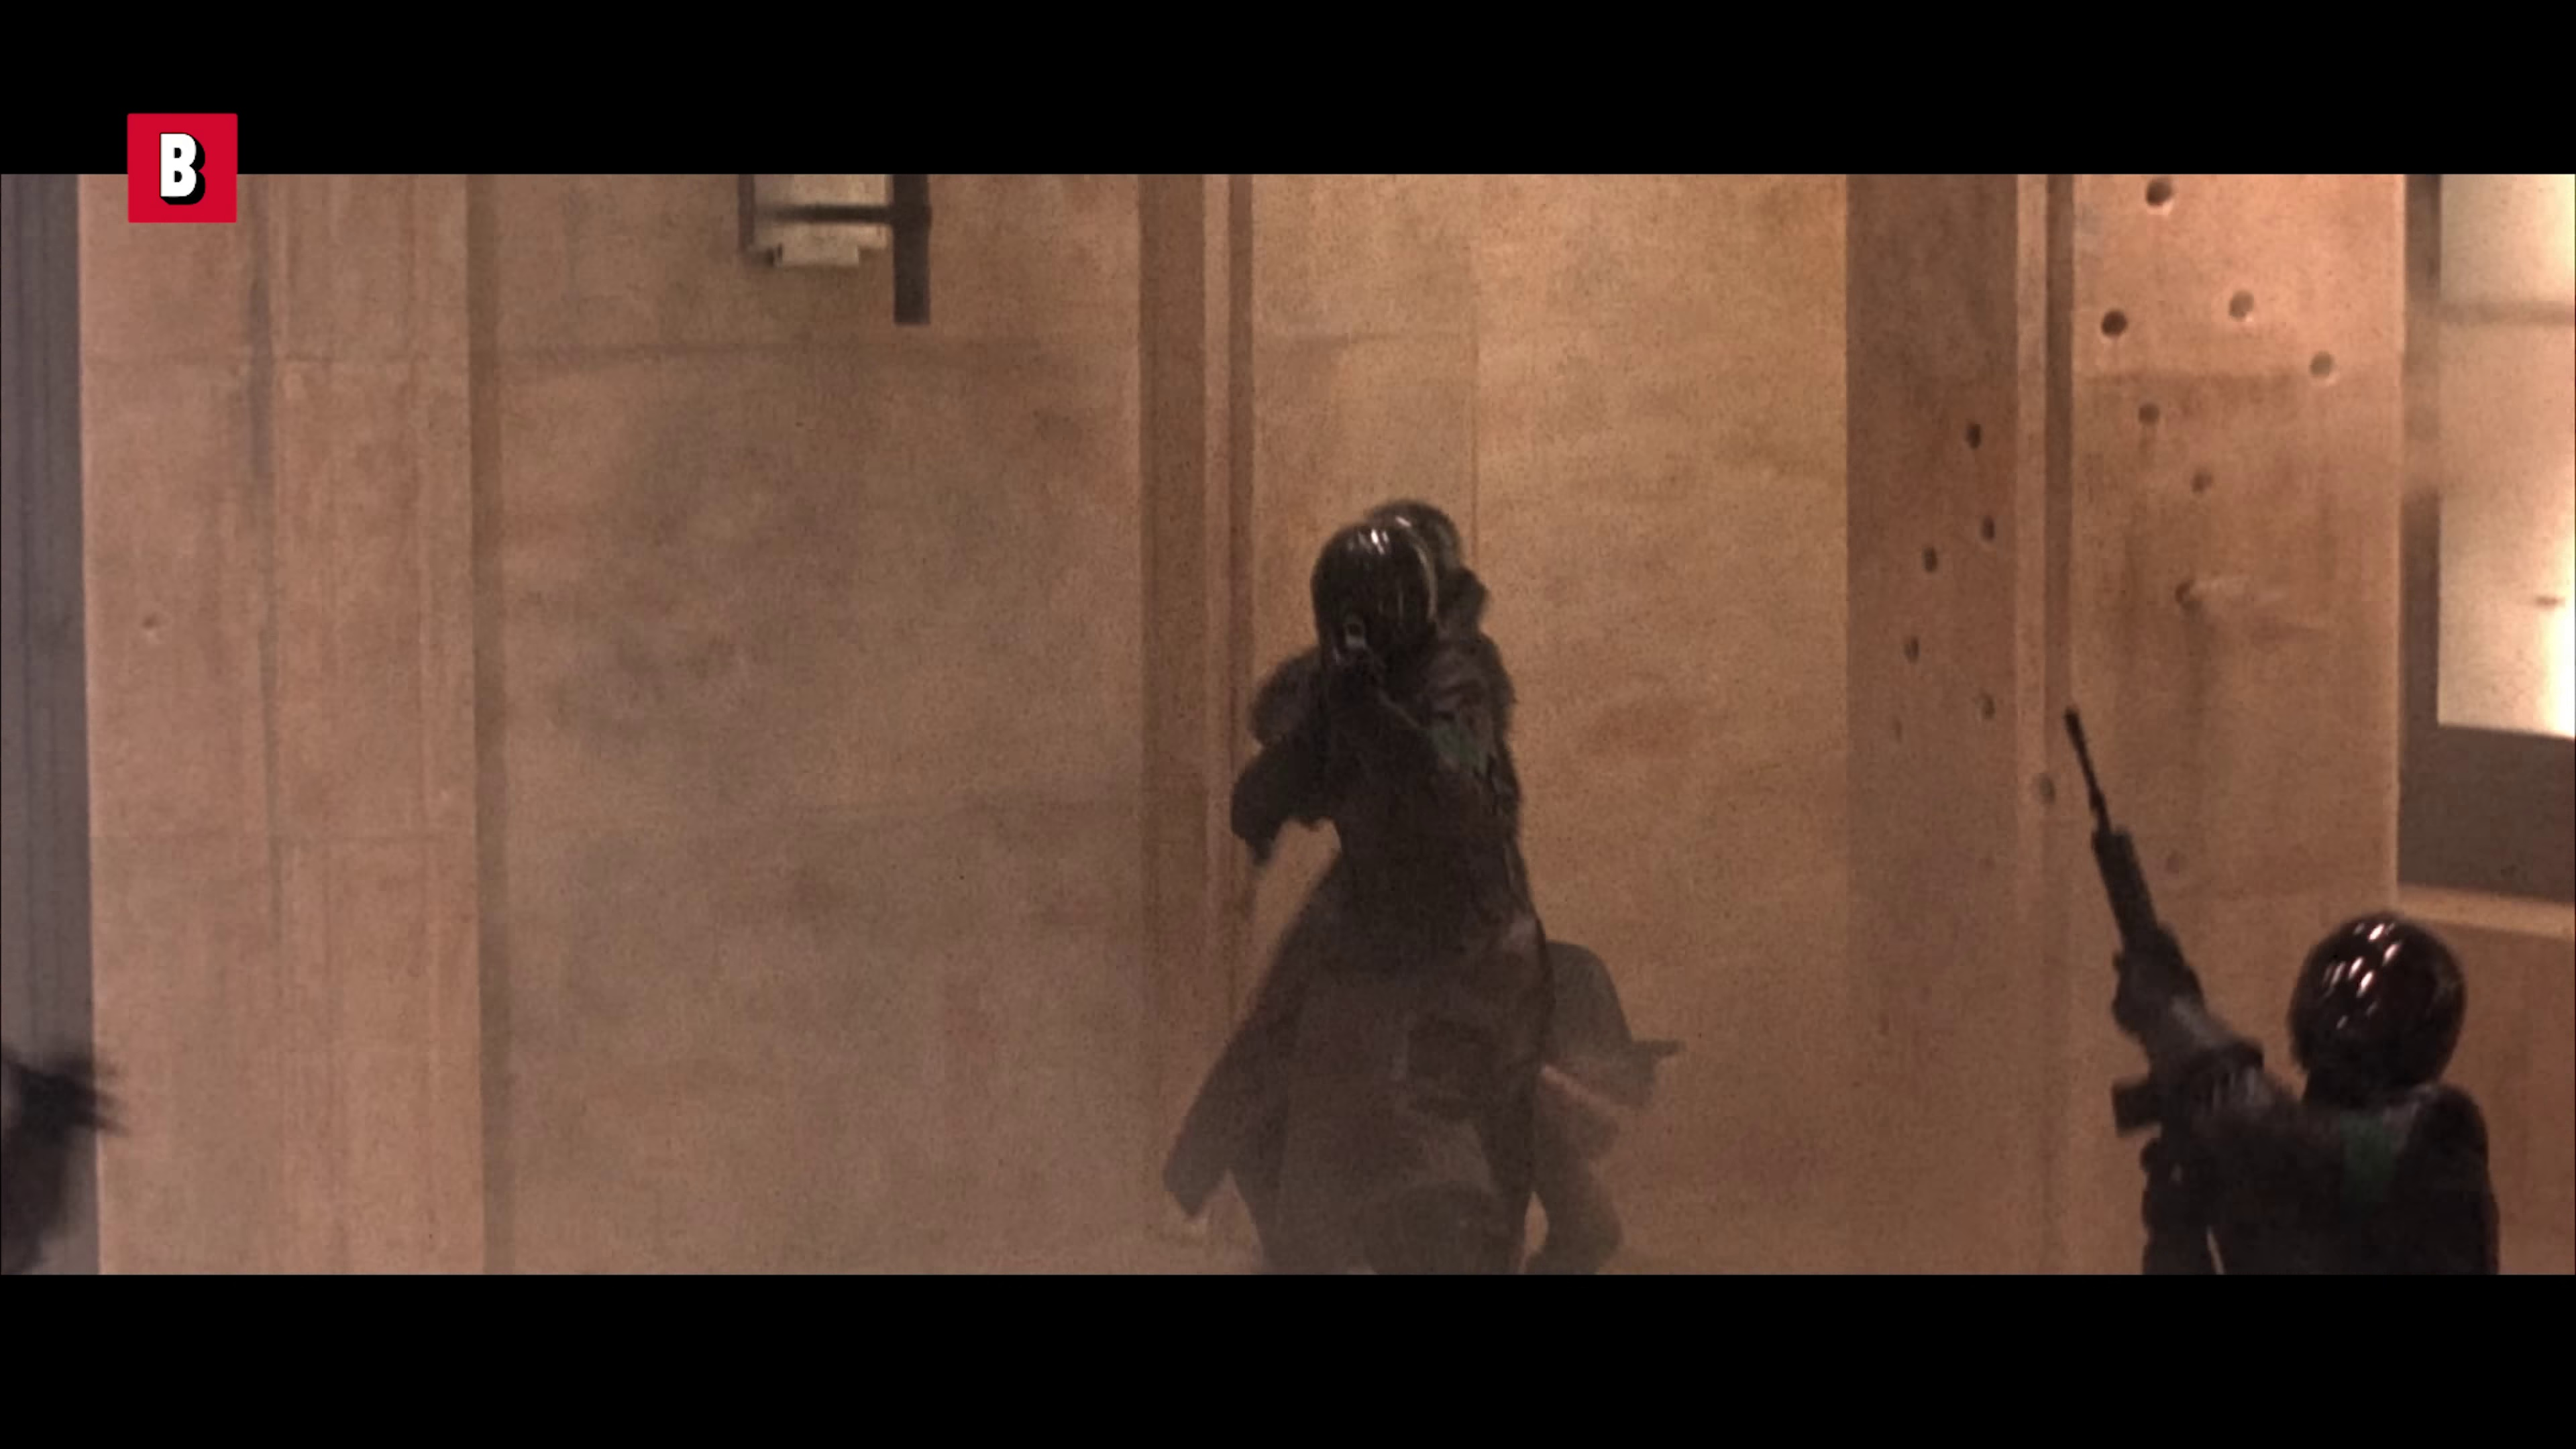gun: (2066, 697, 2249, 1270), (1336, 614, 1371, 671)
p_w_gun: (1198, 492, 1560, 1267), (2065, 695, 2502, 1274)
